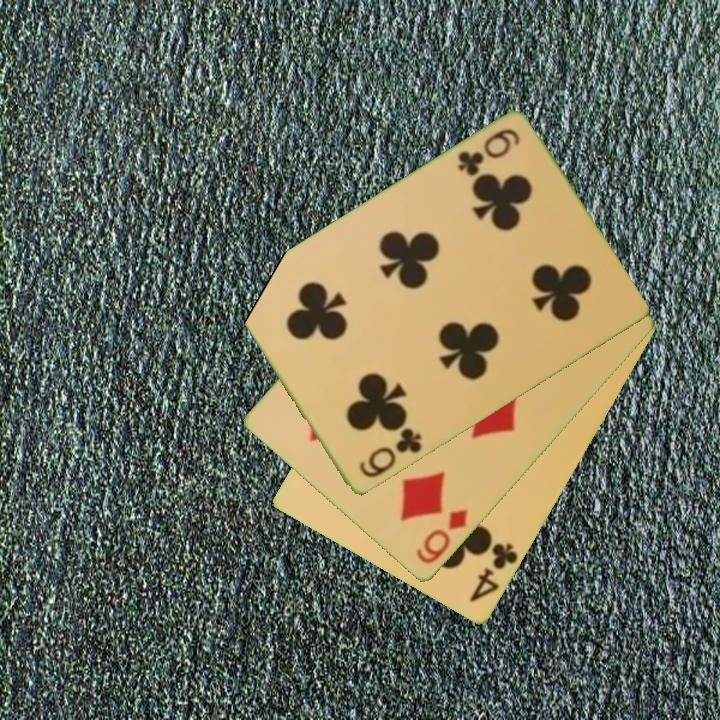4c: (466, 540, 522, 606)
6c: (355, 424, 425, 482), (453, 125, 523, 180)
6d: (412, 506, 472, 568)
